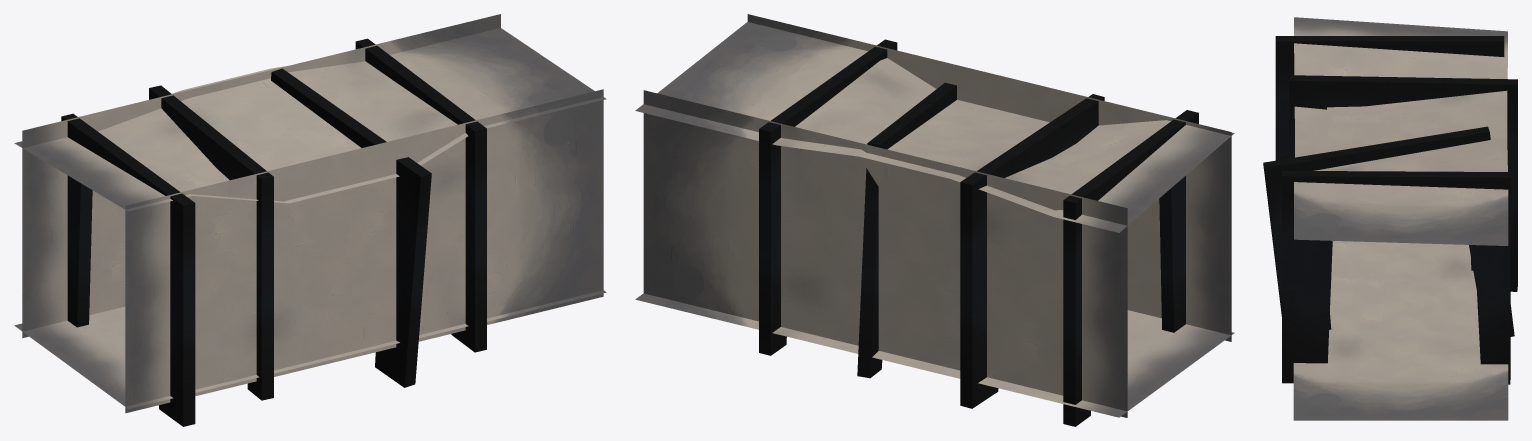
File: gangrechtmain.fbx
3 views of the same model, side by side, from view 1: azimuth 30°, elevation 25°; view 2: azimuth 150°, elevation 25°; view 3: azimuth 270°, elevation 25° (orthographic). The views are drawn at different scales.
Parts seen in each view (by area): view 1: pPlane3; view 2: pPlane3; view 3: pPlane3.
Boxes of the visible parts, box(x1,y1,x2,y2) form: pPlane3: box(14, 14, 606, 426); pPlane3: box(635, 14, 1234, 426); pPlane3: box(1263, 17, 1517, 420).
Size of the model in its own units: 34.5 by 16.82 by 16.99.
